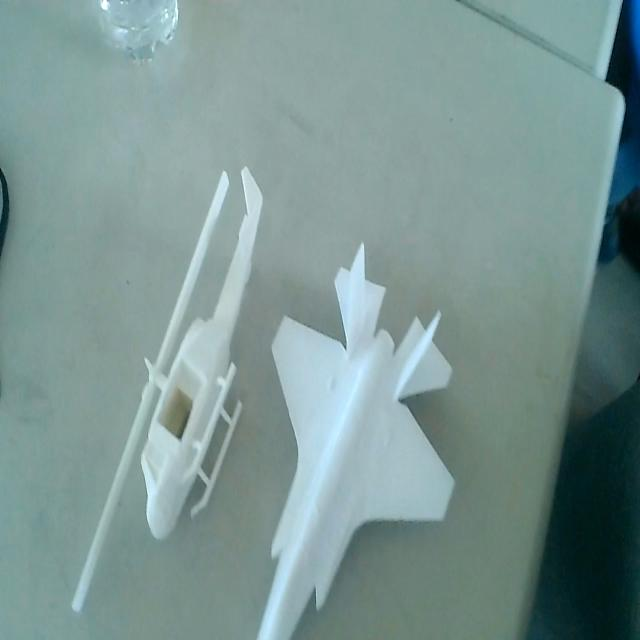Helicopter: (70, 164, 258, 604)
Jet: (261, 243, 453, 640)
